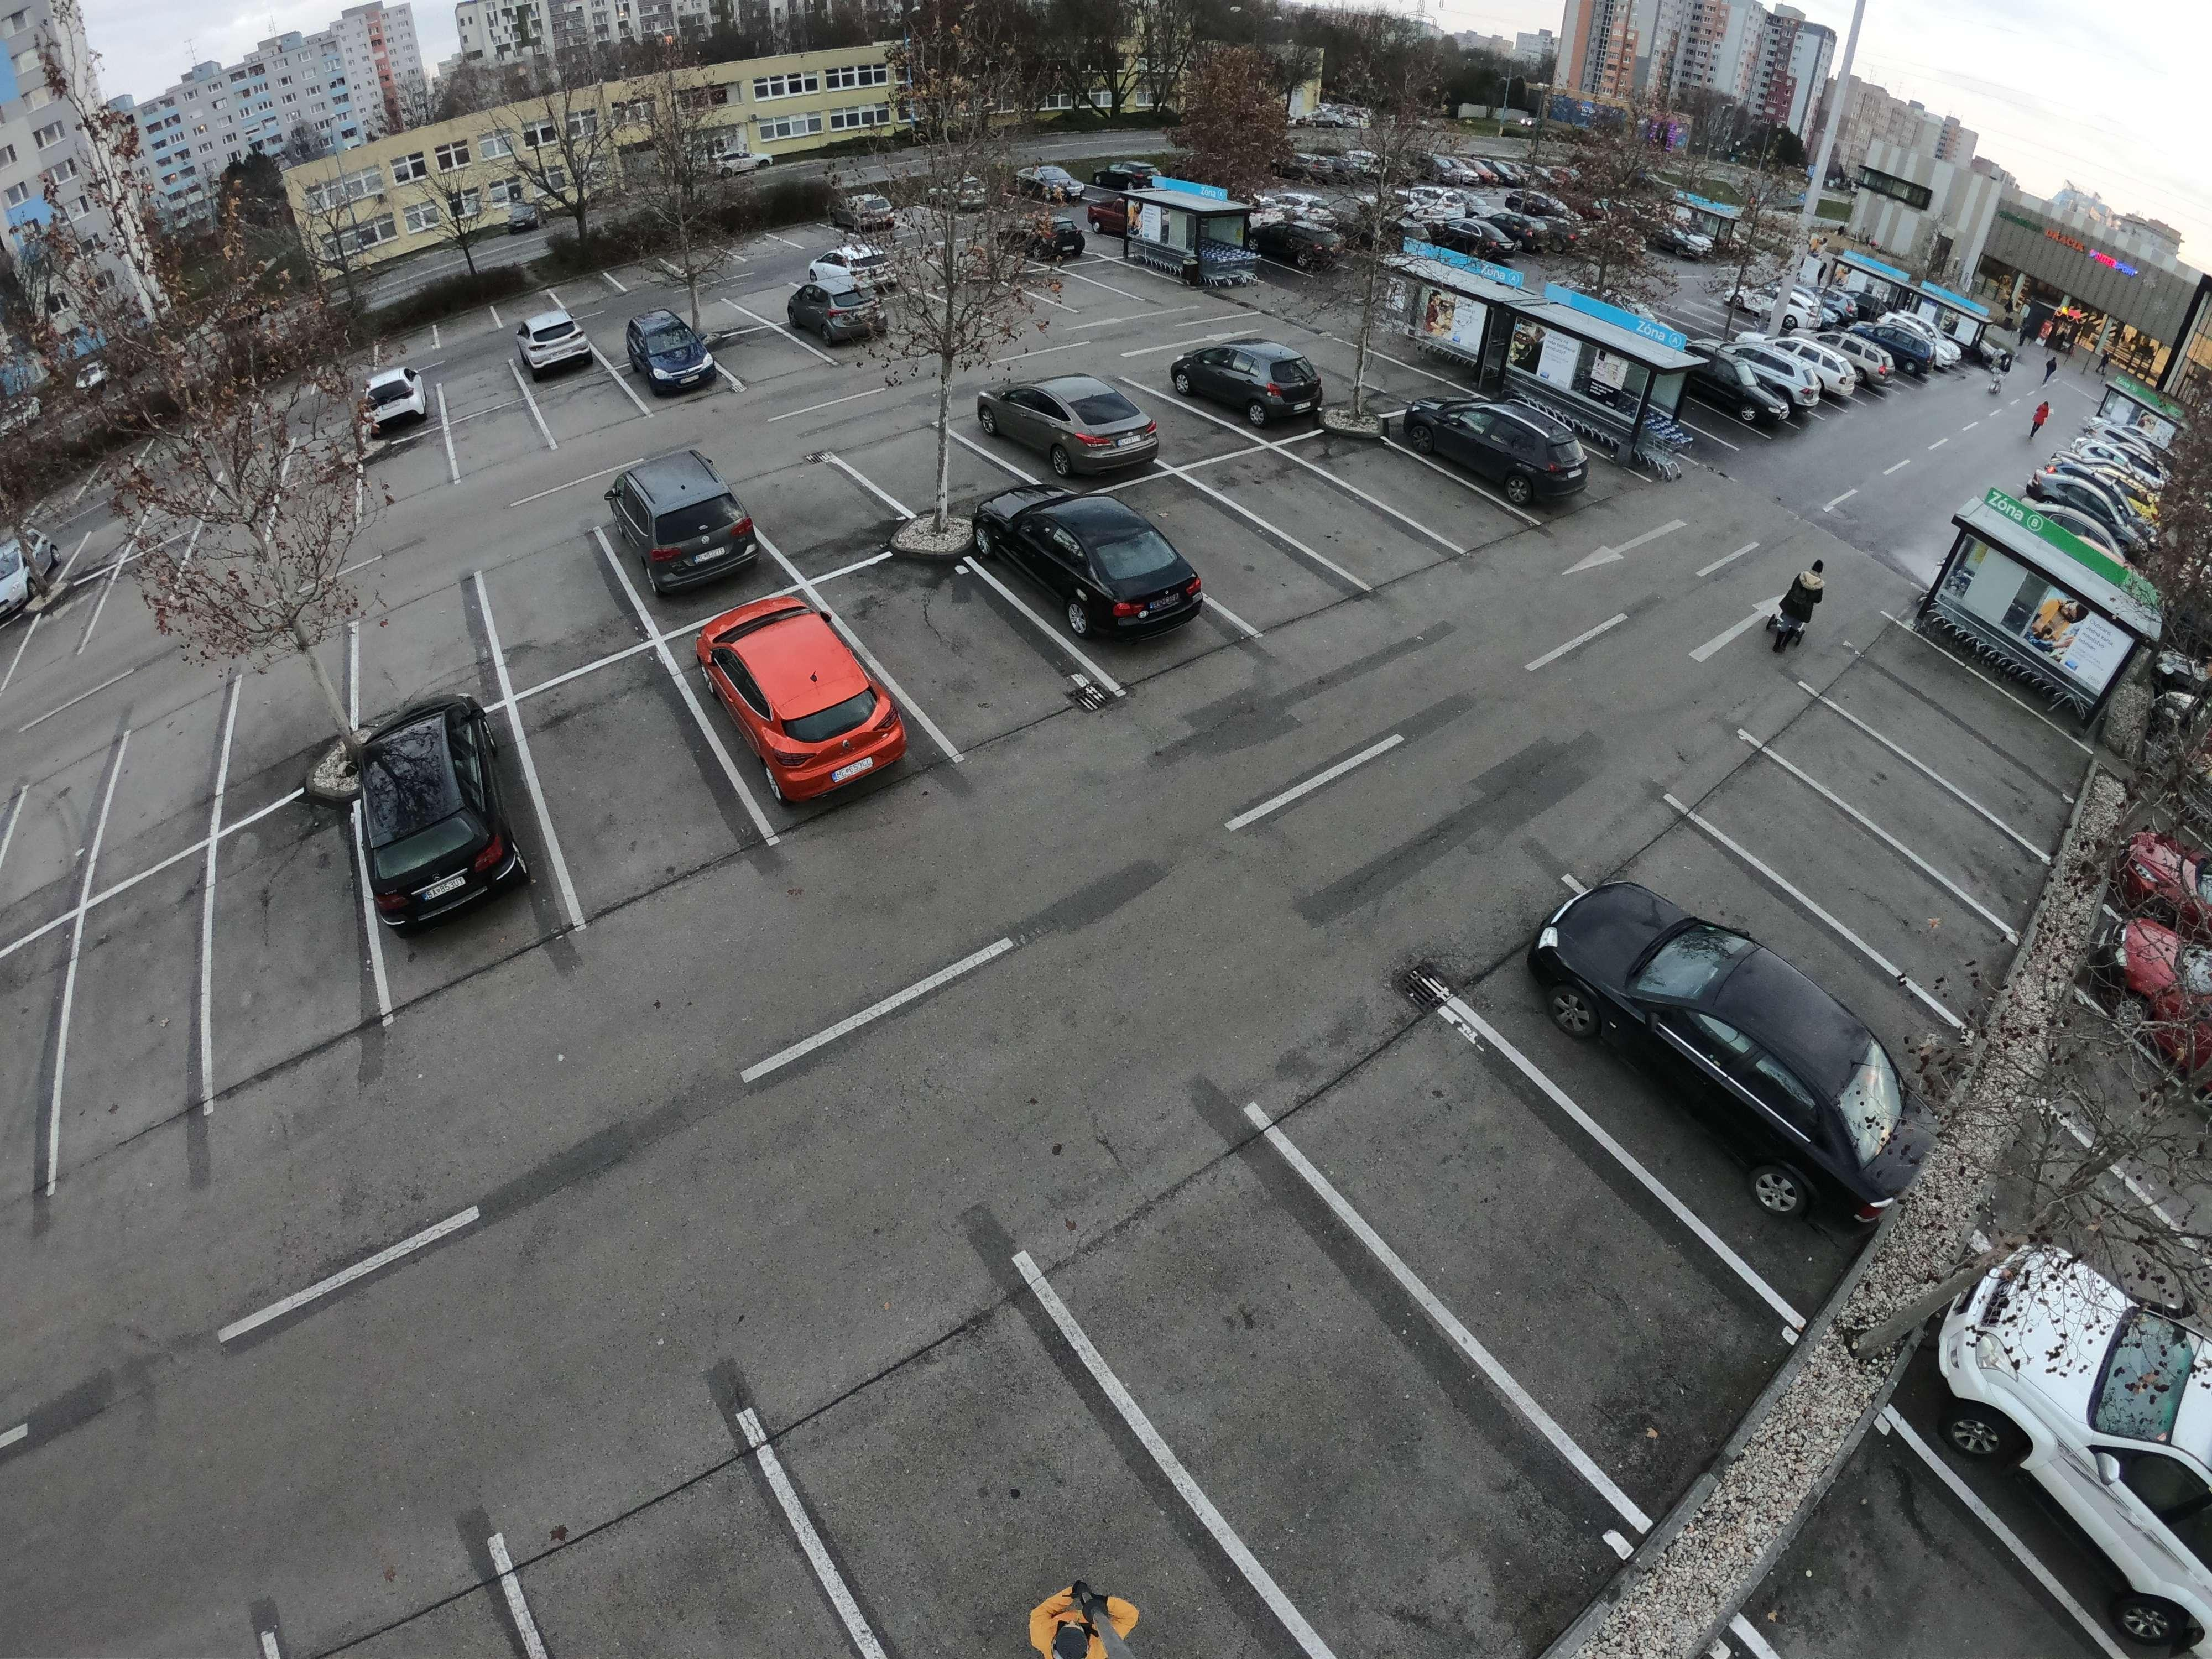empty: (1538, 896, 1935, 1178), (1898, 1279, 2209, 1635), (348, 687, 531, 934), (704, 605, 920, 793), (977, 490, 1211, 640), (599, 451, 775, 592), (1399, 396, 1595, 500), (979, 378, 1177, 479), (1183, 340, 1341, 429), (2017, 462, 2163, 545), (1679, 352, 1825, 432), (624, 312, 738, 403), (1745, 338, 1872, 410), (787, 284, 897, 354), (1411, 209, 1533, 265), (1822, 328, 1928, 383), (514, 310, 599, 378), (364, 371, 442, 443), (998, 213, 1089, 267)
occupied: (862, 1427, 1190, 1642), (1155, 1274, 1446, 1500), (540, 1476, 773, 1659), (1397, 1133, 1630, 1286), (209, 873, 364, 1016), (66, 946, 212, 1093), (538, 716, 711, 835), (106, 737, 226, 849), (894, 603, 1026, 690), (228, 662, 343, 762), (493, 563, 624, 645), (368, 610, 491, 692), (1784, 819, 1907, 894), (5, 791, 94, 877), (1714, 849, 1784, 957), (763, 479, 874, 542), (1177, 514, 1278, 579), (343, 443, 442, 504), (1857, 769, 1954, 830), (890, 443, 986, 500), (1907, 697, 1972, 767), (1270, 488, 1360, 535), (451, 403, 535, 453), (1357, 462, 1444, 505), (1141, 401, 1217, 448), (549, 387, 624, 432), (453, 385, 524, 432), (728, 335, 806, 376), (449, 371, 514, 413)
